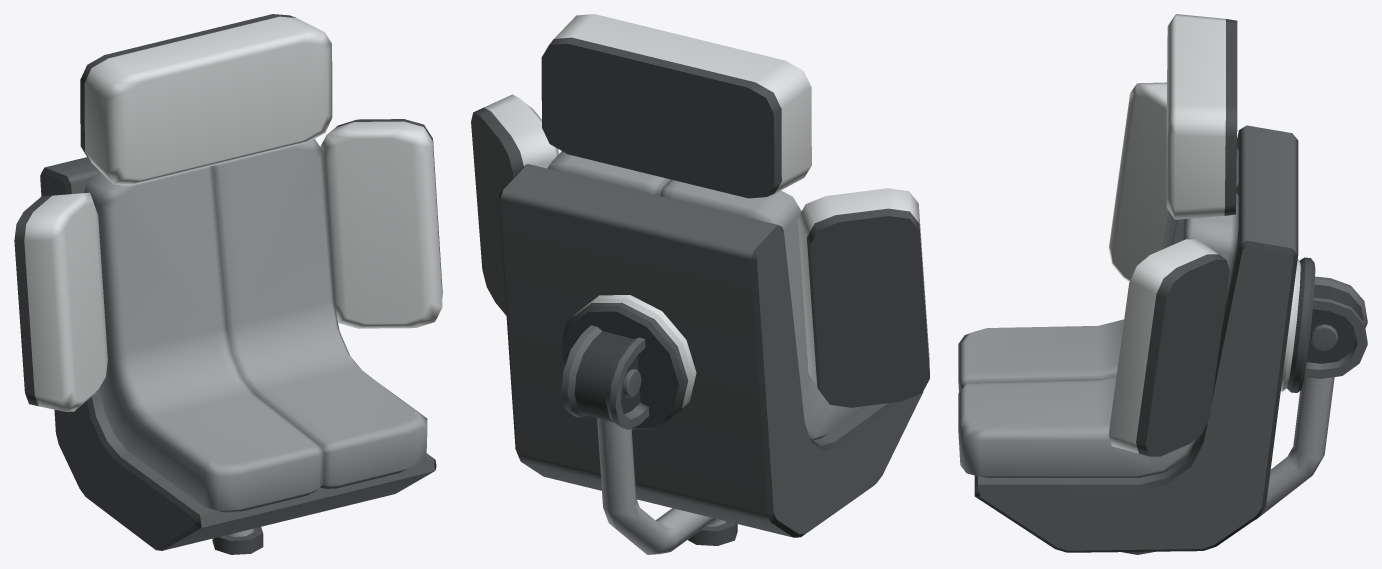
The model's file is Armchair_012.glb.
3 views of the same model, side by side, from view 1: azimuth 30°, elevation 25°; view 2: azimuth 150°, elevation 25°; view 3: azimuth 270°, elevation 25° (orthographic). The views are drawn at different scales.
Visible parts, largest first — view 1: Armchair_012; view 2: Armchair_012; view 3: Armchair_012.
Boxes of the visible parts, <box> form: Armchair_012: <box>14,14,442,554</box>; Armchair_012: <box>471,14,929,554</box>; Armchair_012: <box>958,14,1367,554</box>.
Size of the model in its own units: 1.01 by 1.1 by 0.8461.
1 material, 1 textured.
